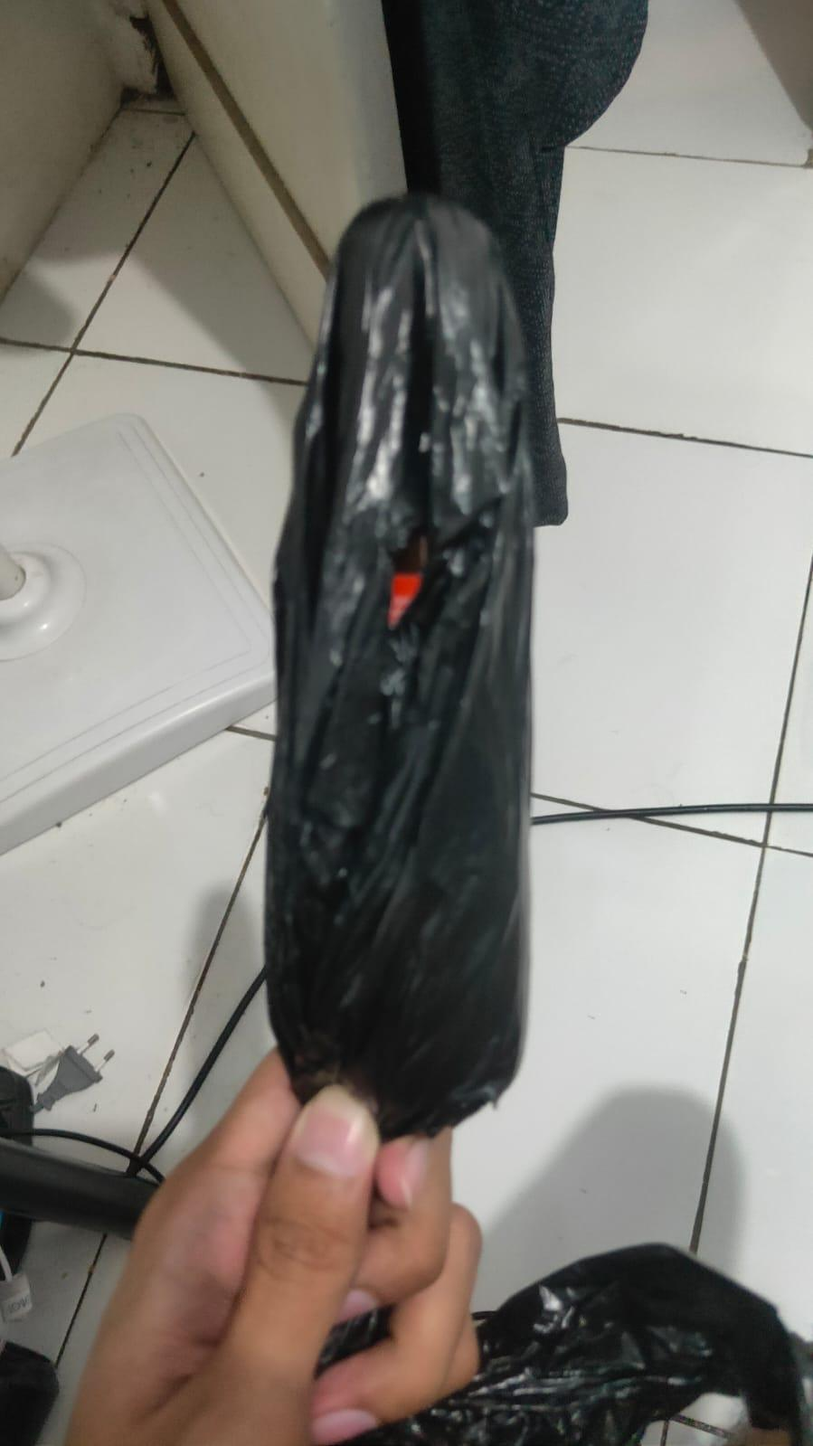damaged package: (359, 475, 453, 650)
undamaged: (245, 166, 548, 1148)
